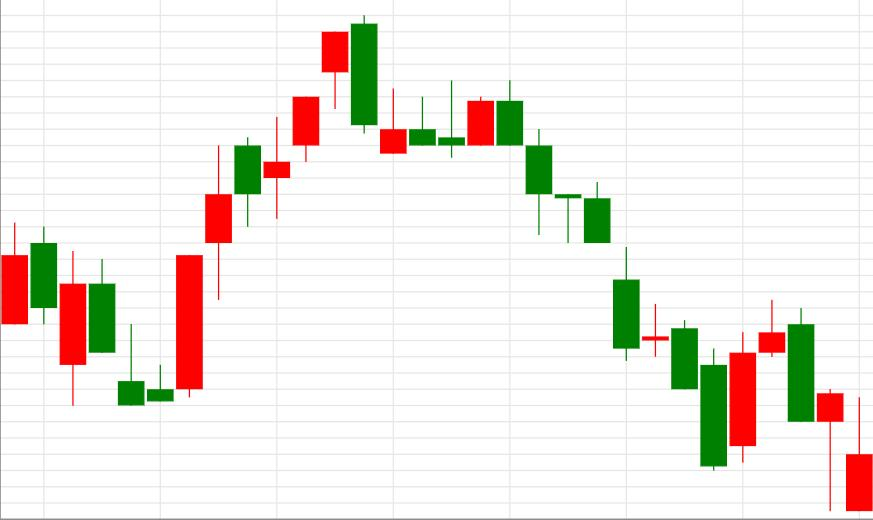bearish_engulfing_fall: (176, 15, 378, 397)
